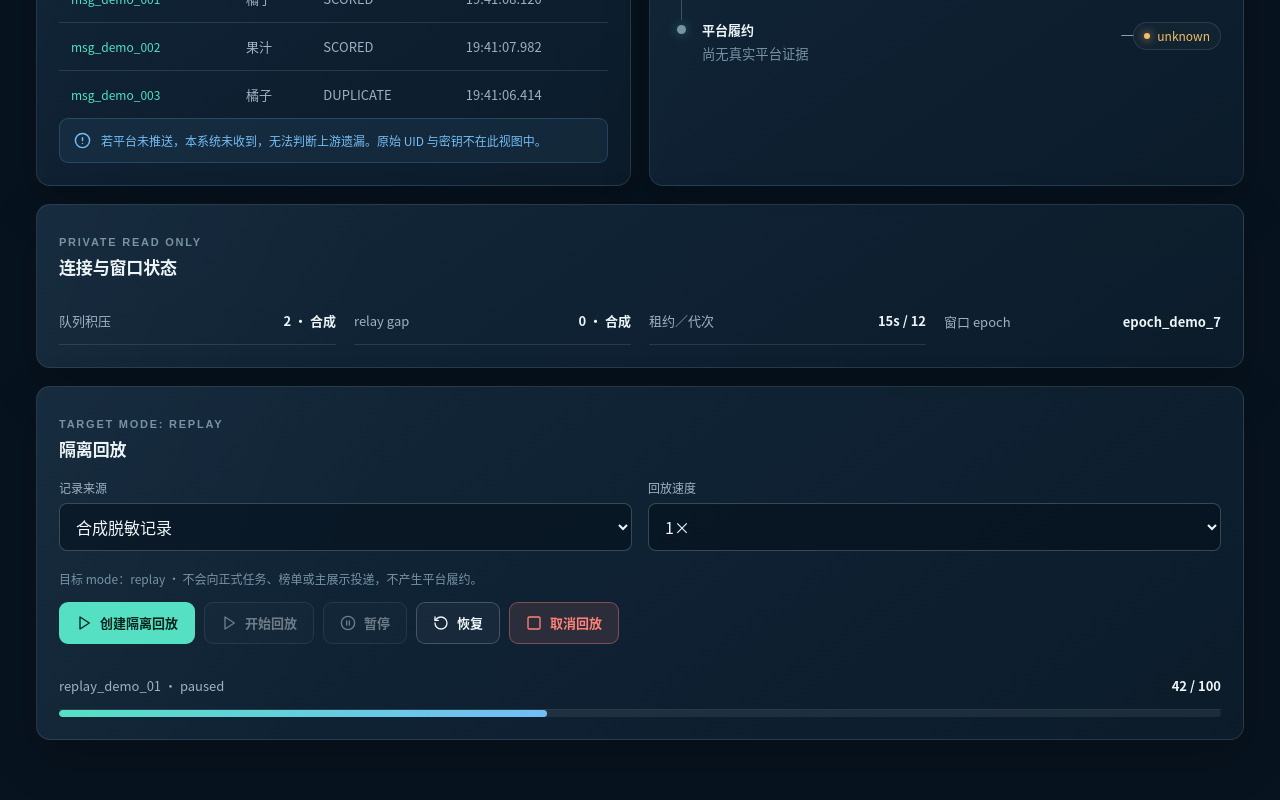
Test: 运行诊断与隔离回放 › 创建回放前确认来源许可和正式数据隔离
(page scrolled)
Expected: the text "目标 mode：replay · 不会向正式任务、榜单或主展示投递，不产生平台履约。" is shown, [59, 570, 483, 588]
Click the button "创建隔离回放" at (127, 623), box [59, 602, 195, 644]
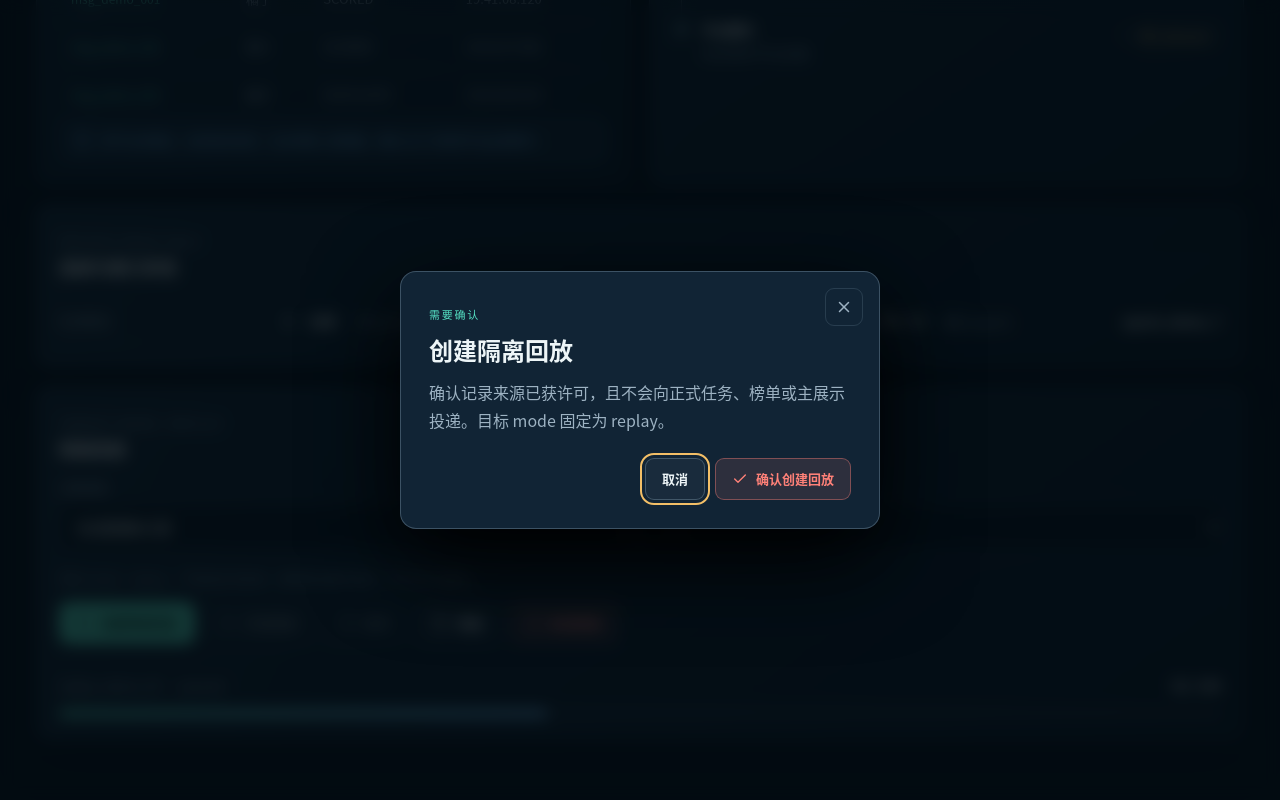
Now the dialog shows "不会向正式任务、榜单或主展示投递", box [429, 380, 845, 432]
Now the button "确认创建回放" is shown, box [715, 458, 851, 500]
